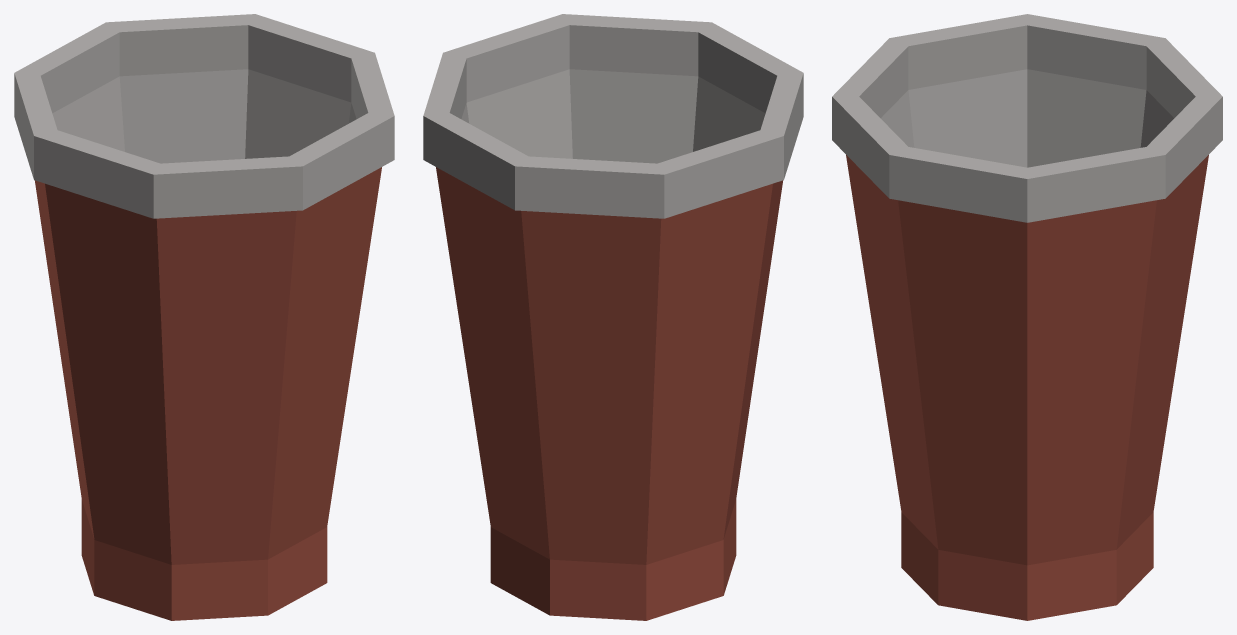
Rendered from SM_Prop_Cup_01.fbx.
3 renders of one model, left to right at view 1: azimuth 30°, elevation 25°; view 2: azimuth 150°, elevation 25°; view 3: azimuth 270°, elevation 25°, orthographic.
Visible parts, largest first — view 1: SM_Prop_Cup_01; view 2: SM_Prop_Cup_01; view 3: SM_Prop_Cup_01.
Boxes of the visible parts, left/top/right/bottom form: SM_Prop_Cup_01: left=14, top=14, right=394, bottom=620; SM_Prop_Cup_01: left=423, top=14, right=803, bottom=620; SM_Prop_Cup_01: left=832, top=14, right=1222, bottom=620.
Size of the model in its own units: 16.36 by 21.77 by 16.36.
